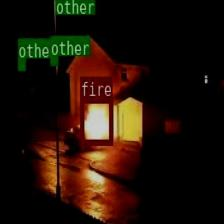fire: (80, 97, 112, 144)
